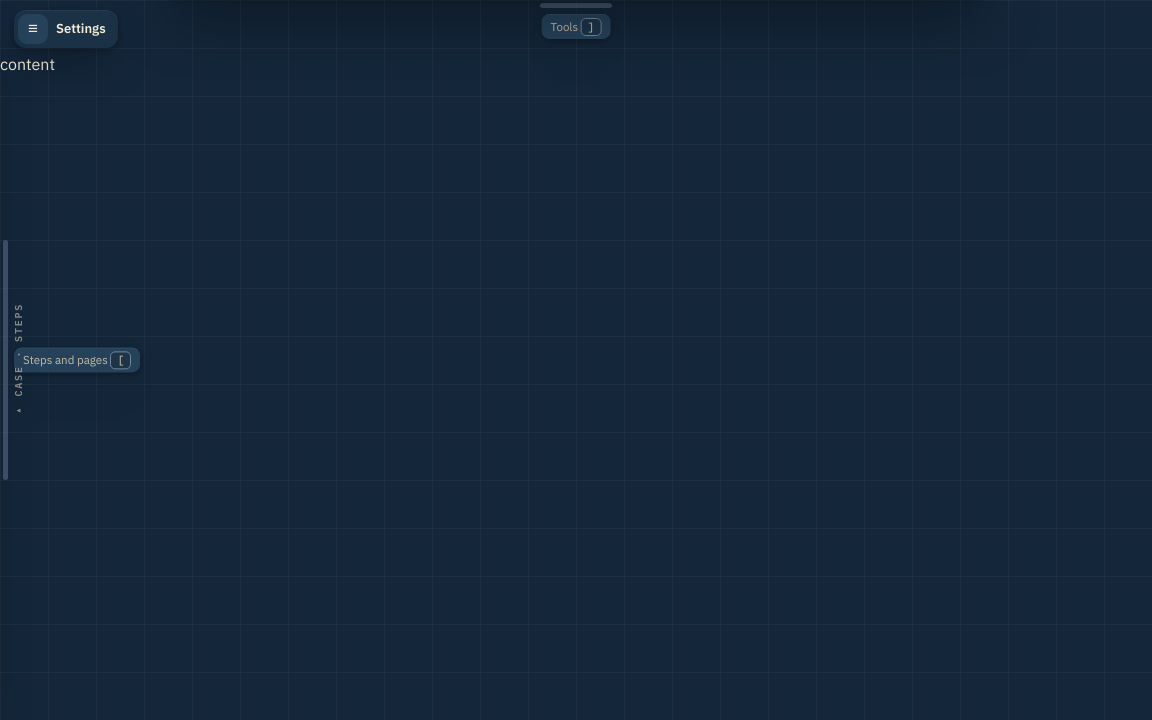
Test: AppFrame › switches case with ⌘O, and Hide screen covers everything until asked back
The width and height of the screenshot is (1152, 720).
Press o
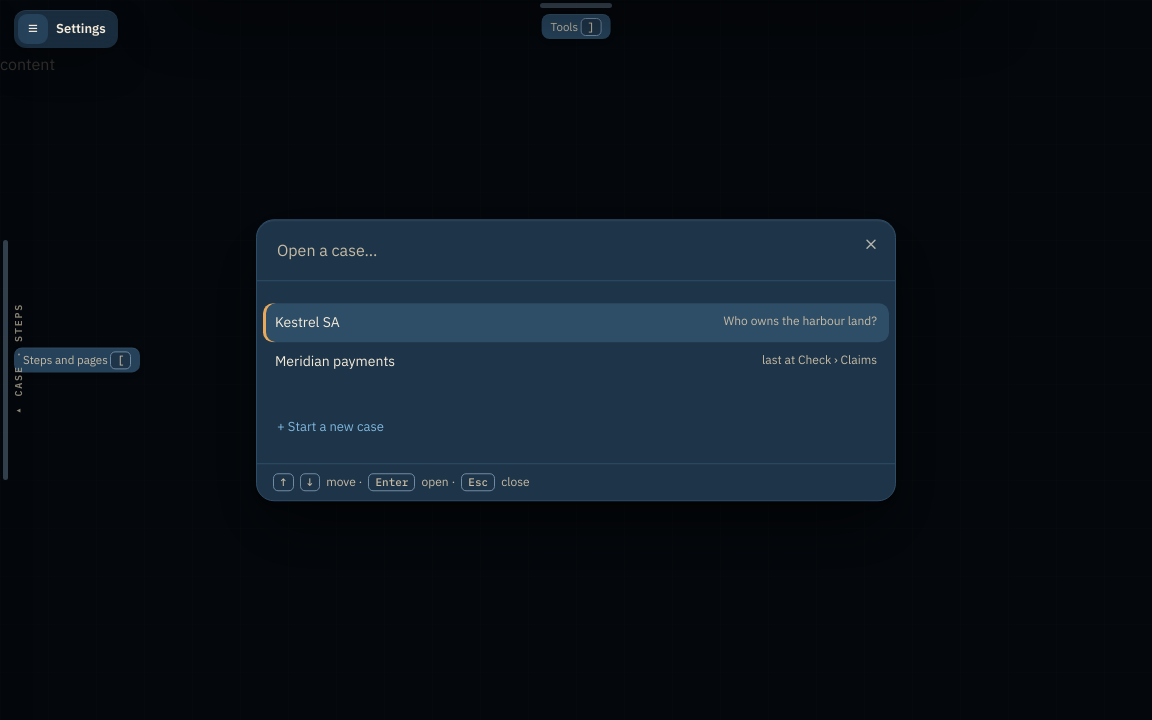
Type "meridian" into the dropdown named "Find a case" at {"x": 576, "y": 251}, box [257,220,895,281]
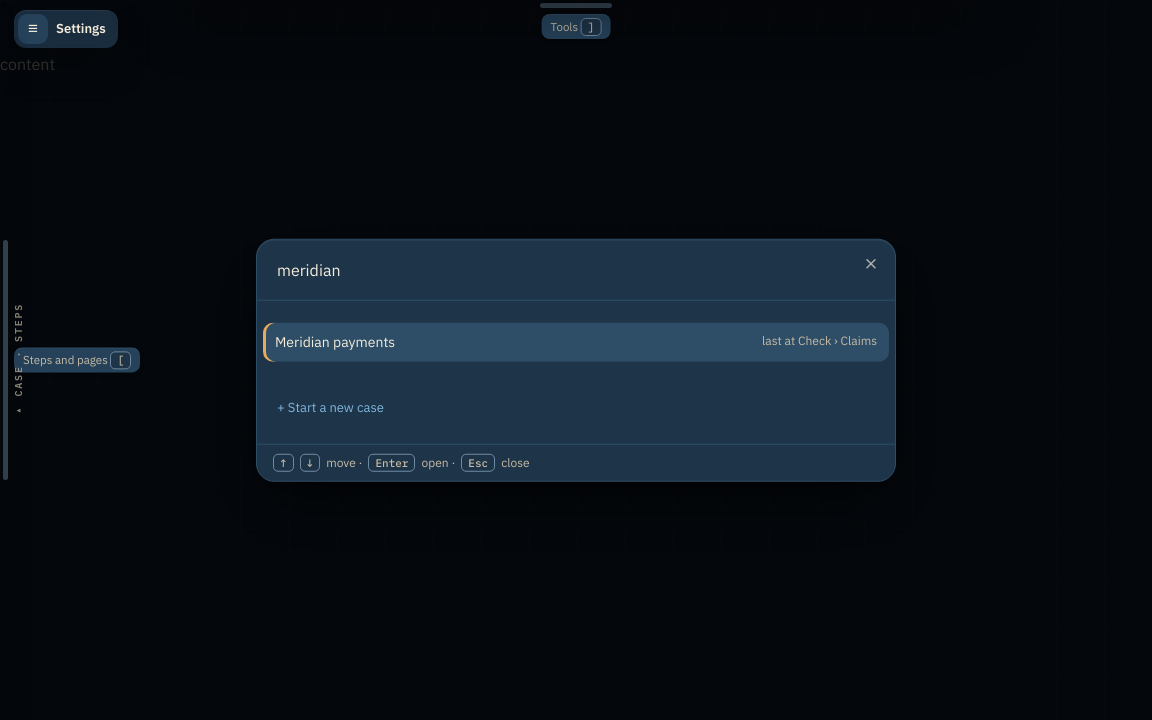
Now the option "Meridian payments last at Check › Claims" is shown
Click the option "Meridian payments last at Check › Claims" at {"x": 335, "y": 342}, box [263,323,889,362]
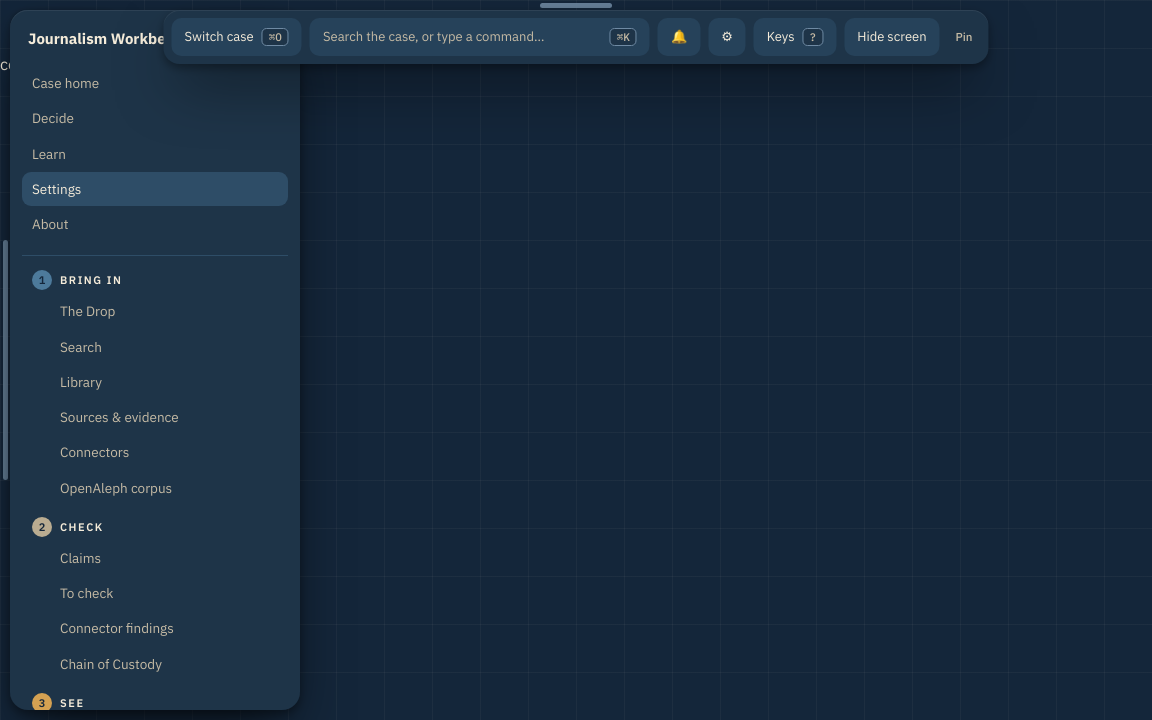
Press h
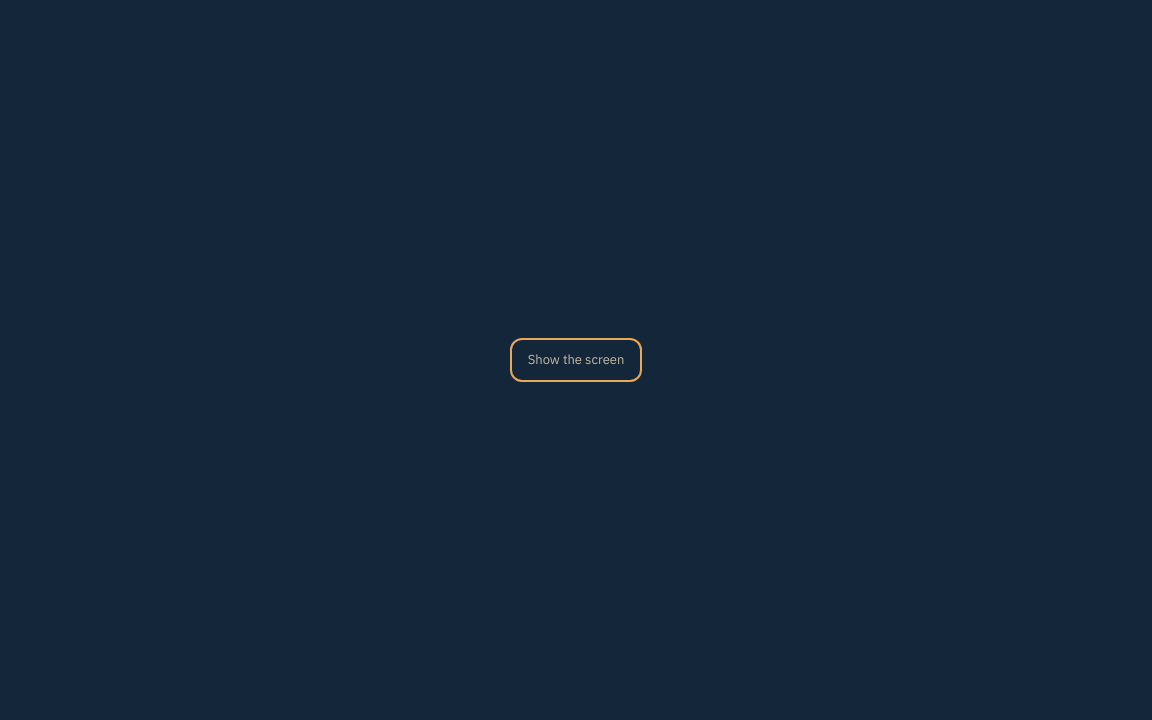
Click the button "Show the screen" at {"x": 576, "y": 360}, box [512,340,640,380]
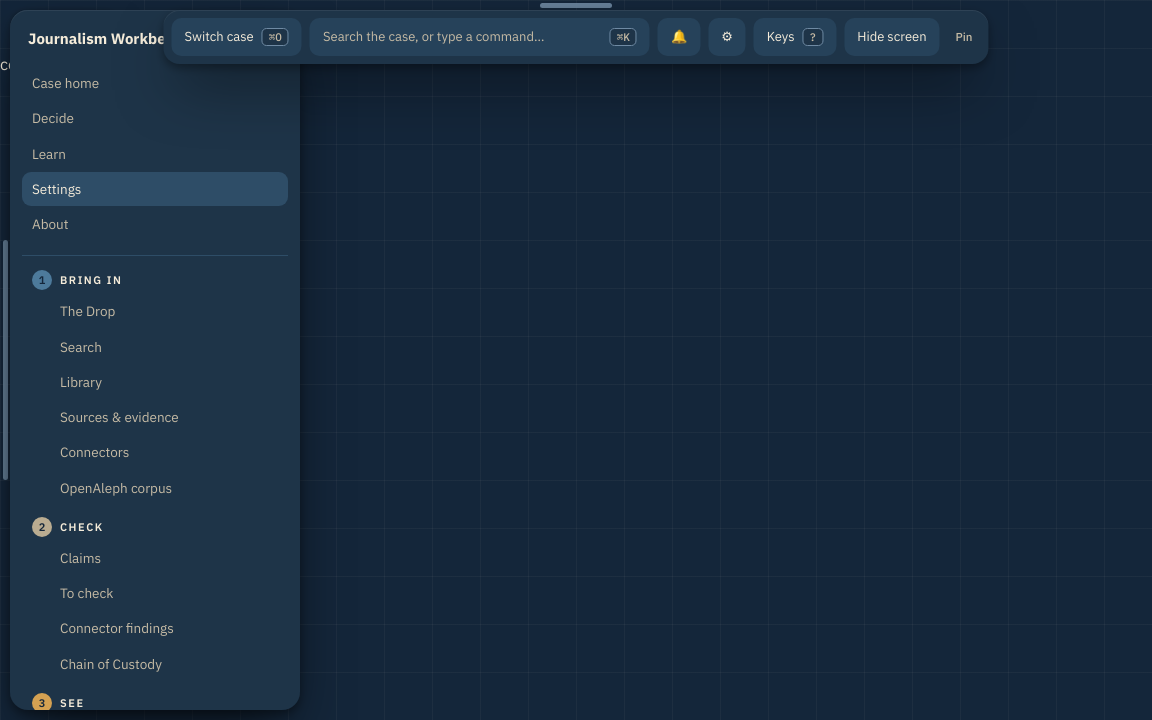
// Shift+Esc hides too.
Press Escape
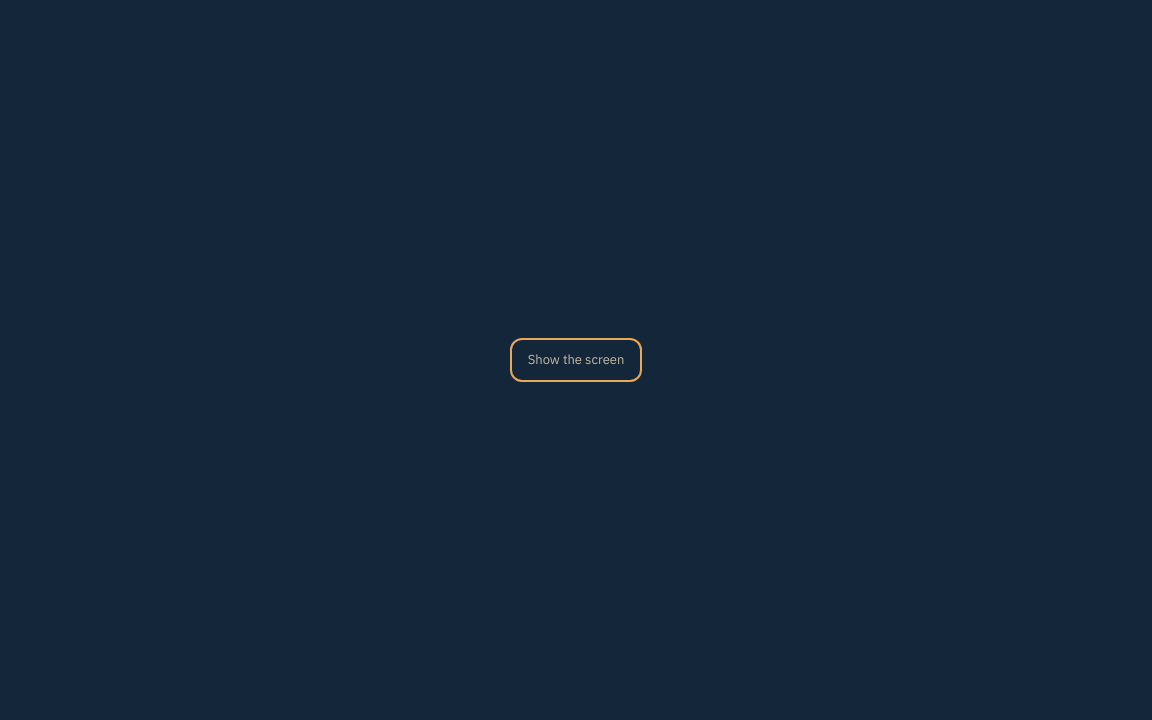
Now the dialog named "Screen hidden" is shown
